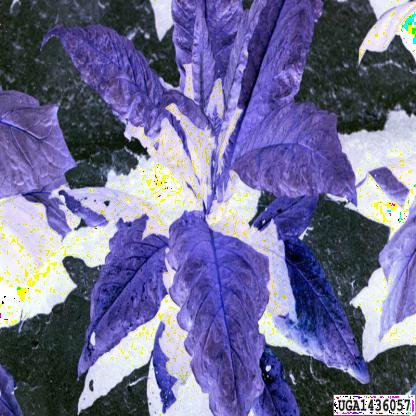tomato leaf mosaic virus: (38, 22, 200, 187), (165, 212, 272, 415), (81, 197, 167, 359), (237, 112, 361, 207)
